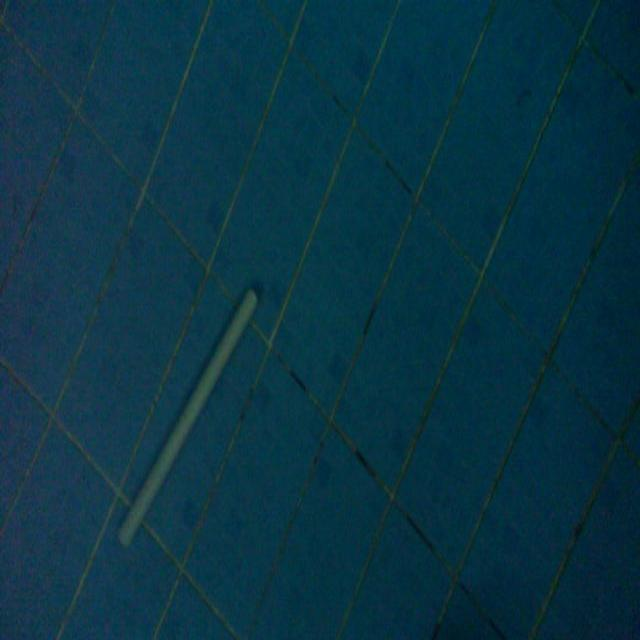Cube: (116, 278, 262, 550)
